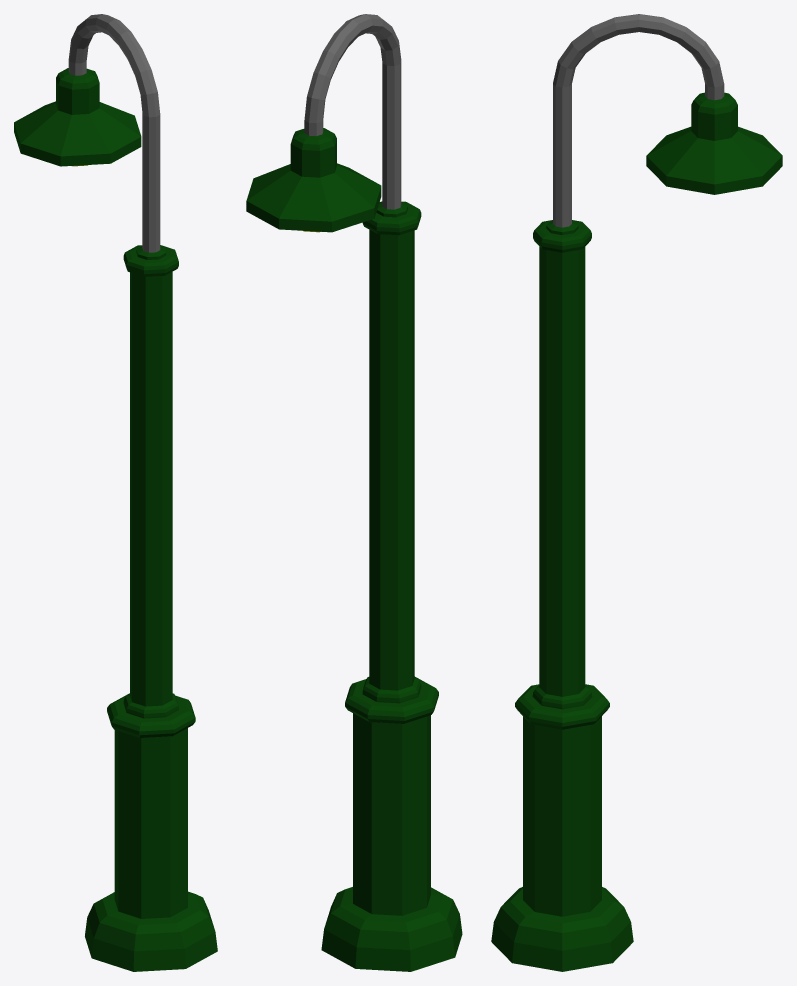
Rendered from StreetLamp.fbx.
The picture shows the model from 3 angles, left to right: view 1: azimuth 30°, elevation 25°; view 2: azimuth 150°, elevation 25°; view 3: azimuth 270°, elevation 25°; orthographic projection. The views are drawn at different scales.
Visible parts, largest first — view 1: Cylinder.001; view 2: Cylinder.001; view 3: Cylinder.001.
Part boxes in pixels (bbox=[...]): Cylinder.001: bbox=[14, 14, 217, 971]; Cylinder.001: bbox=[246, 14, 462, 971]; Cylinder.001: bbox=[491, 14, 782, 971].
Size of the model in its own units: 42.7 by 307 by 87.38.
